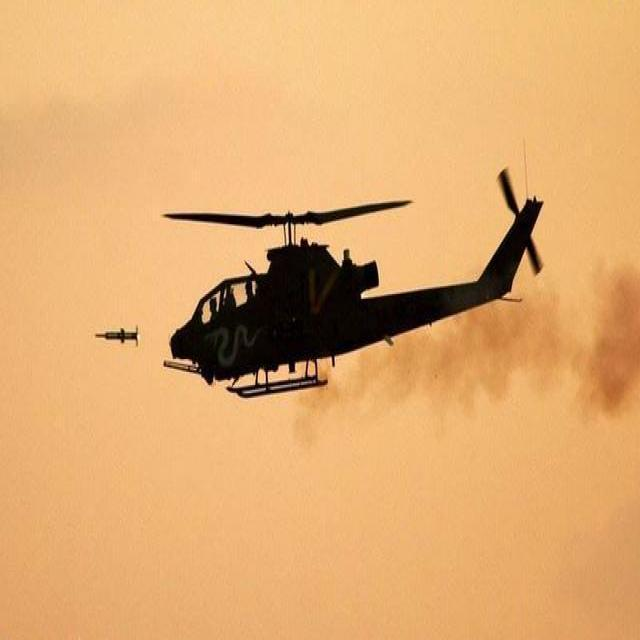MIL_HELO: (158, 160, 558, 407)
